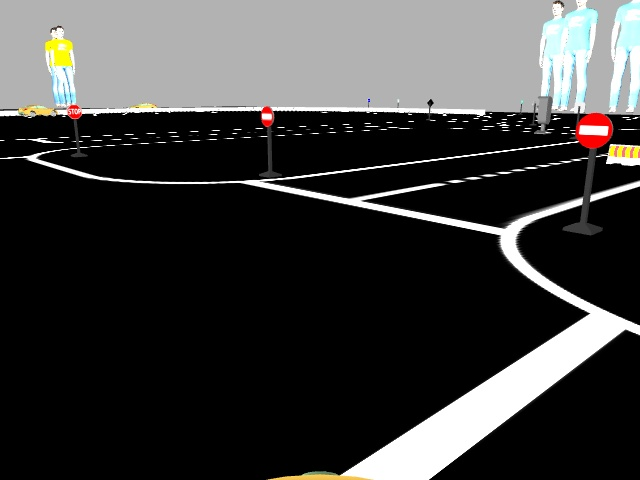ClosedRoadStand: (606, 144, 639, 162)
NoEntry: (576, 112, 609, 145), (259, 106, 274, 126)
Stop: (65, 104, 81, 120)
